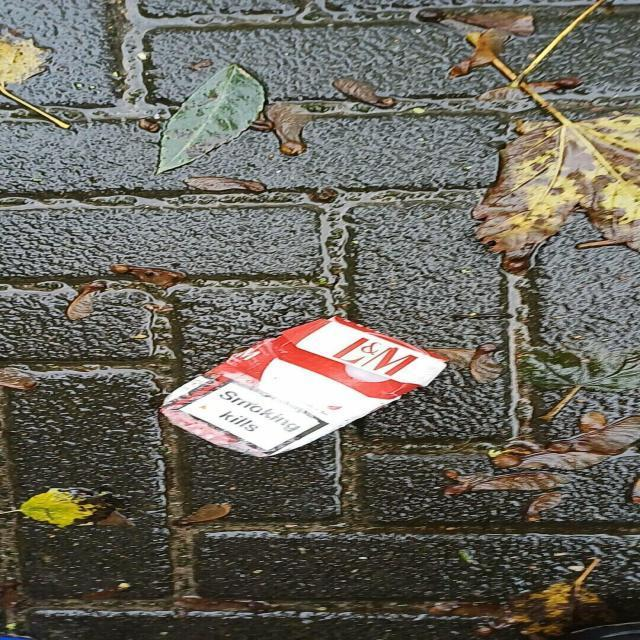Paper: (148, 313, 450, 460)
